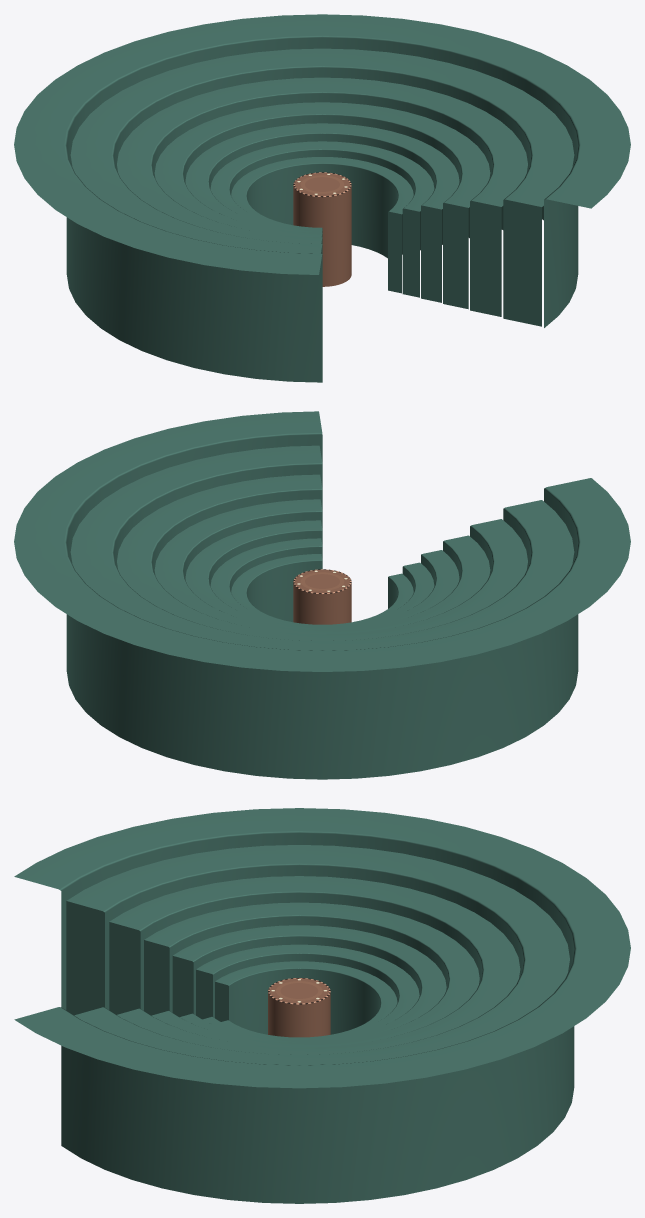
Rendered from SM_Stage.fbx.
3 renders of one model, top to bottom at view 1: azimuth 30°, elevation 25°; view 2: azimuth 150°, elevation 25°; view 3: azimuth 270°, elevation 25°, orthographic. The views are drawn at different scales.
Visible parts, largest first — view 1: Stage6; view 2: Stage6; view 3: Stage6.
Boxes of the visible parts, <box> form: Stage6: <box>14,14,630,382</box>; Stage6: <box>14,411,630,779</box>; Stage6: <box>14,808,630,1203</box>.
Bounding box in the file's own units: 6326 × 1469 × 5884.
Materials: 1 (1 with a texture image).
